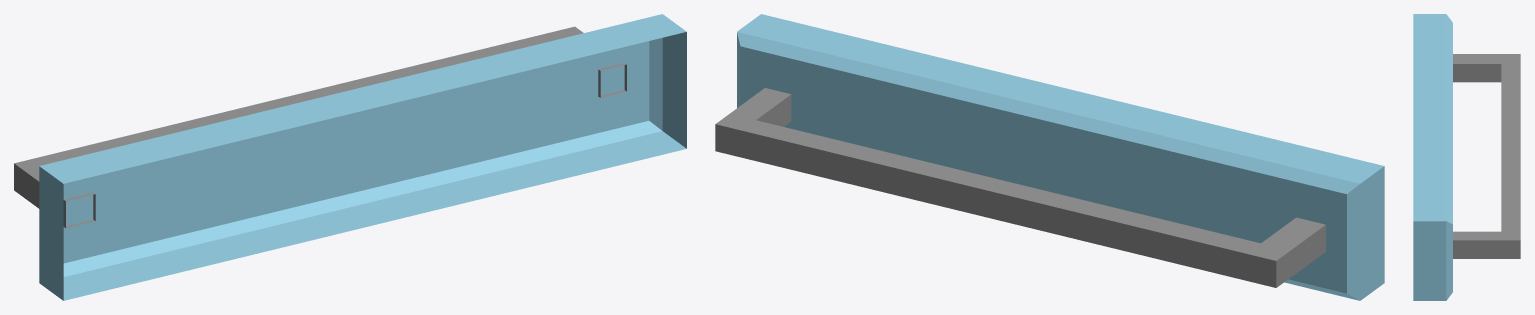
The model's file is PROPS_towelHolder_01.FBX.
The picture shows the model from 3 angles, left to right: view 1: azimuth 30°, elevation 25°; view 2: azimuth 150°, elevation 25°; view 3: azimuth 270°, elevation 25°; orthographic projection. The views are drawn at different scales.
Parts seen in each view (by area): view 1: PROPS_towelHolder_01; view 2: PROPS_towelHolder_01; view 3: PROPS_towelHolder_01.
Boxes of the visible parts, x1,y1,x2,y2 form: PROPS_towelHolder_01: (14,14,686,300); PROPS_towelHolder_01: (715,14,1384,300); PROPS_towelHolder_01: (1413,14,1520,300).
Size of the model in its own units: 73.48 by 13.19 by 16.1.
